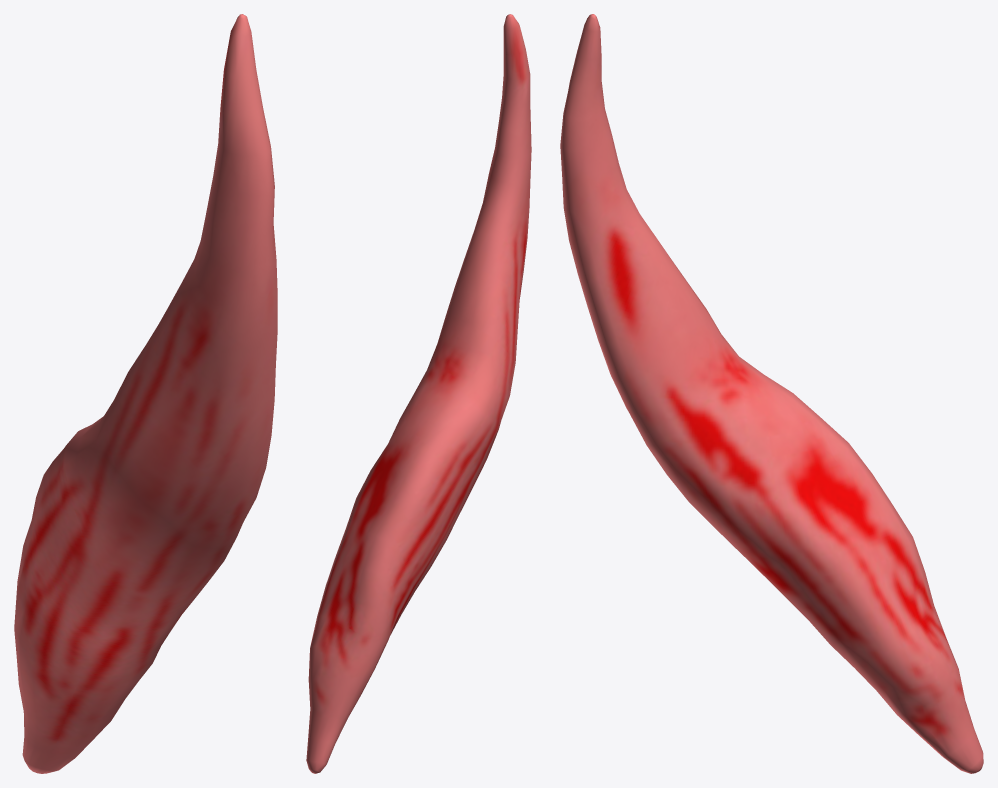
Rendered from Bicep_Brachii.glb.
3 views of the same model, side by side, from view 1: azimuth 30°, elevation 25°; view 2: azimuth 150°, elevation 25°; view 3: azimuth 270°, elevation 25° (orthographic). The views are drawn at different scales.
Parts seen in each view (by area): view 1: bicep_brachii1.001; view 2: bicep_brachii1.001; view 3: bicep_brachii1.001.
Part boxes in pixels (left/top/right/bottom): bicep_brachii1.001: left=14, top=14, right=277, bottom=773; bicep_brachii1.001: left=306, top=14, right=531, bottom=773; bicep_brachii1.001: left=560, top=14, right=983, bottom=773.
Size of the model in its own units: 0.0509 by 0.2932 by 0.1517.
Materials: 1 (1 with a texture image).
